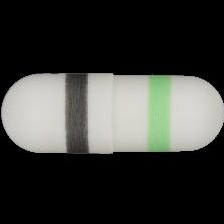0781-2822: (0, 0, 224, 224)
